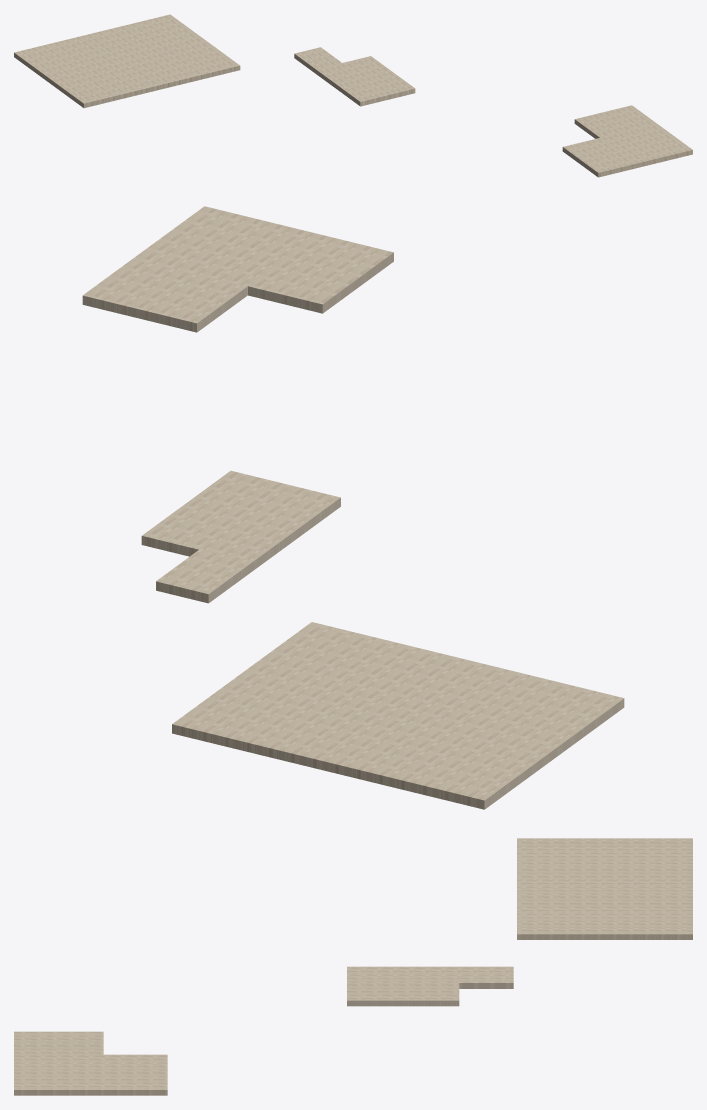
The model's file is 1989_bathroom_Floor_LaytonLakeSilverDollar_.gltf.
3 renders of one model, top to bottom at view 1: azimuth 30°, elevation 25°; view 2: azimuth 150°, elevation 25°; view 3: azimuth 270°, elevation 25°, orthographic. The views are drawn at different scales.
Visible parts, largest first — view 1: Floors_layton_lake_silver_dollar; view 2: Floors_layton_lake_silver_dollar; view 3: Floors_layton_lake_silver_dollar.
Boxes of the visible parts, x1=… form: Floors_layton_lake_silver_dollar: x1=14, y1=14, x2=692, y2=177; Floors_layton_lake_silver_dollar: x1=82, y1=206, x2=624, y2=809; Floors_layton_lake_silver_dollar: x1=14, y1=838, x2=692, y2=1095.
Size of the model in its own units: 18.6 by 0.2 by 21.2.
Materials: 1 (1 with a texture image).
